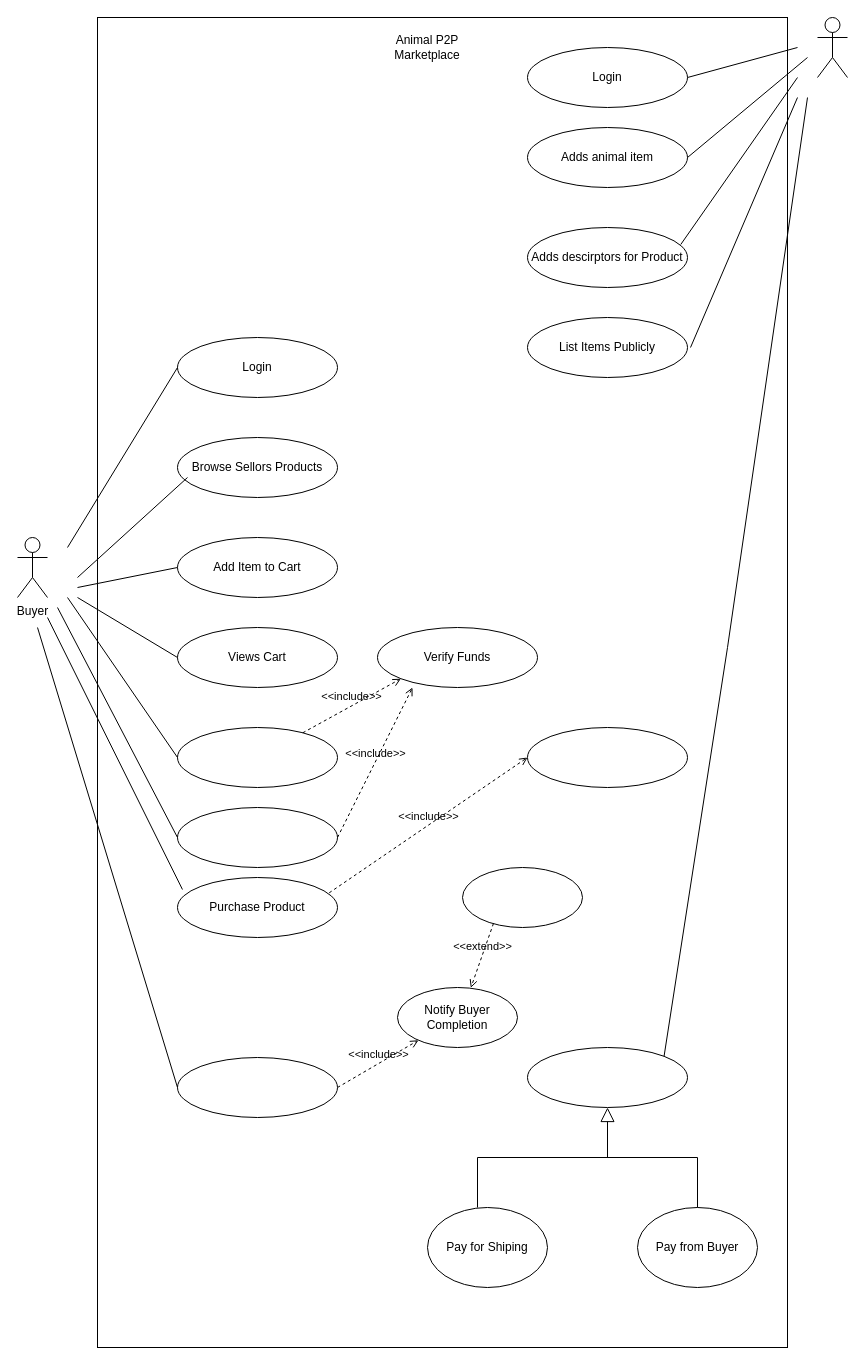
This 865x1365 diagram has some shape labels left out. The shapes that lost their labels are listed below. From the top down, each one's centre as x and y in pixels, then its label:
pixel 832 47: Seller
pixel 257 757: Transfer Funds
pixel 607 757: Verify Purchase
pixel 257 837: Make Payment
pixel 522 897: Notify Verification
pixel 257 1087: Product Ownership
pixel 607 1077: Ship Products
